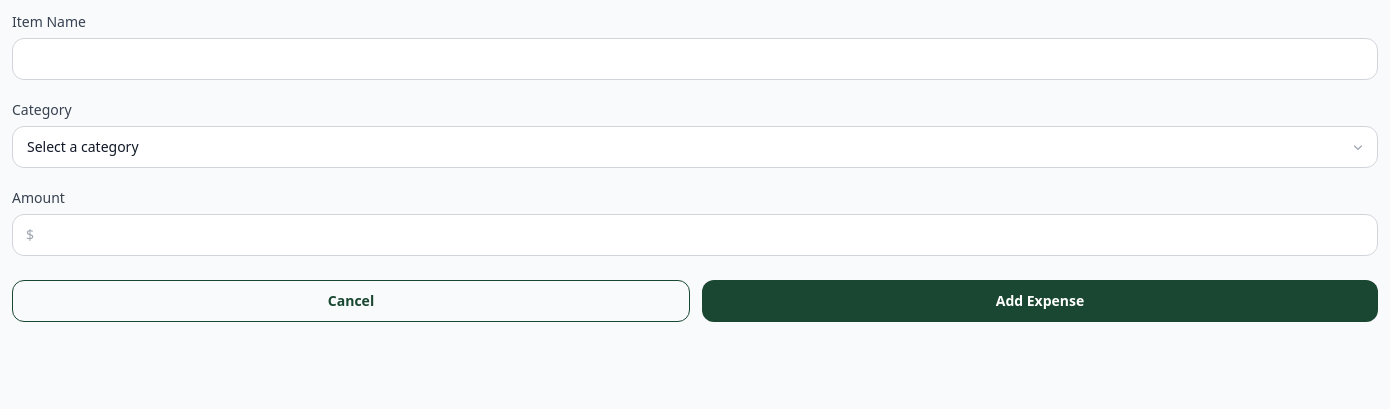
it: ExpenseForm component › shows all three errors when submitted empty
The width and height of the screenshot is (1390, 409).
Click the button "Add Expense": (1040, 301) [702,280,1378,322]
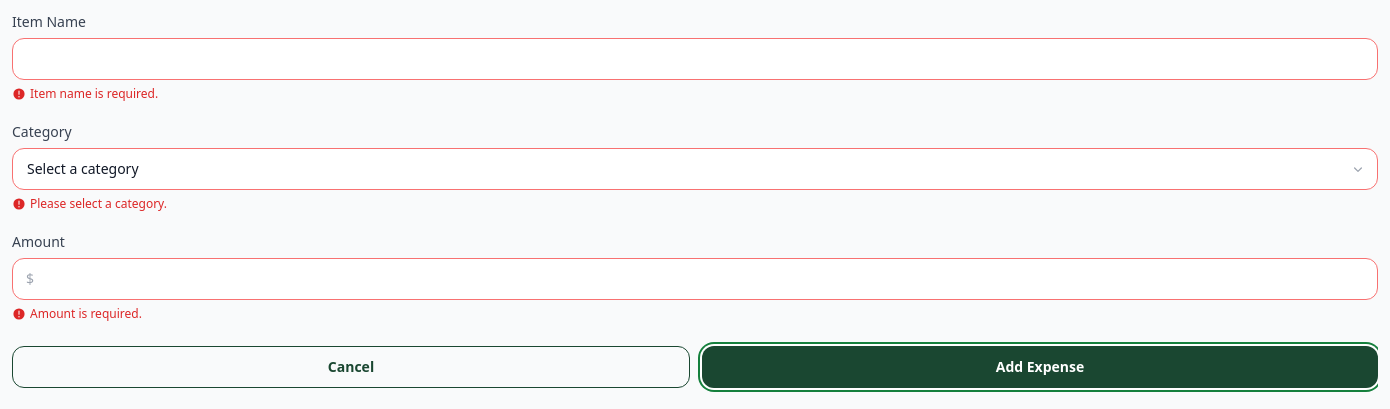
expect the text "Item name is required." is shown: met, box [12,85,158,102]
expect the text "Please select a category." is shown: met, box [12,195,167,212]
expect the text "Amount is required." is shown: met, box [12,305,142,322]
